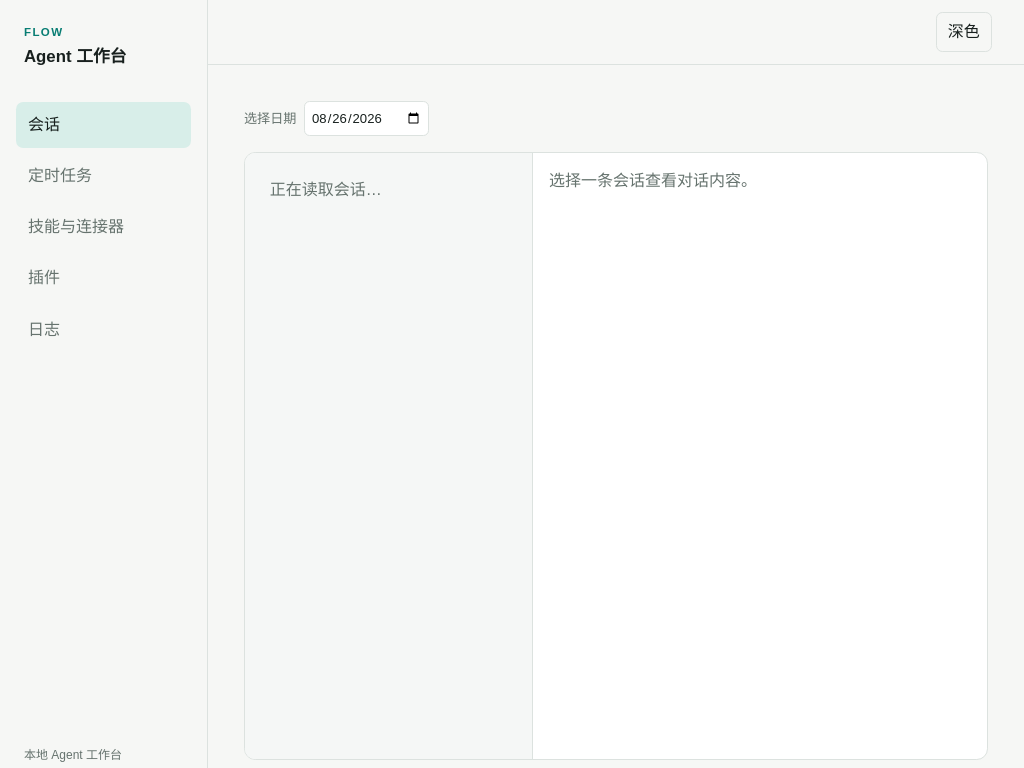
Test case: OverviewPage › 展示连接器协议版本和连接失败原因
Click the button "技能与连接器" at (104, 227), box [16, 204, 191, 250]
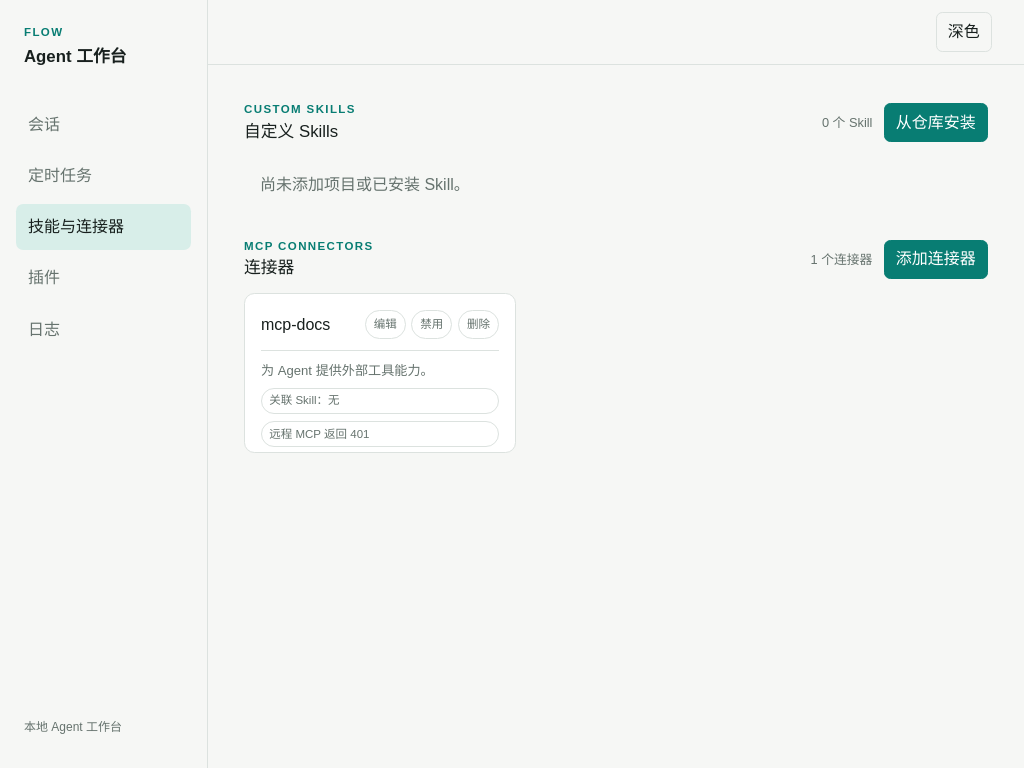
Now the heading "mcp-docs" is shown, box [261, 313, 330, 337]
Now the text "远程 MCP 返回 401" is shown, box [261, 421, 499, 447]
